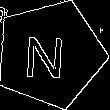N_N: (28, 28, 73, 80)
